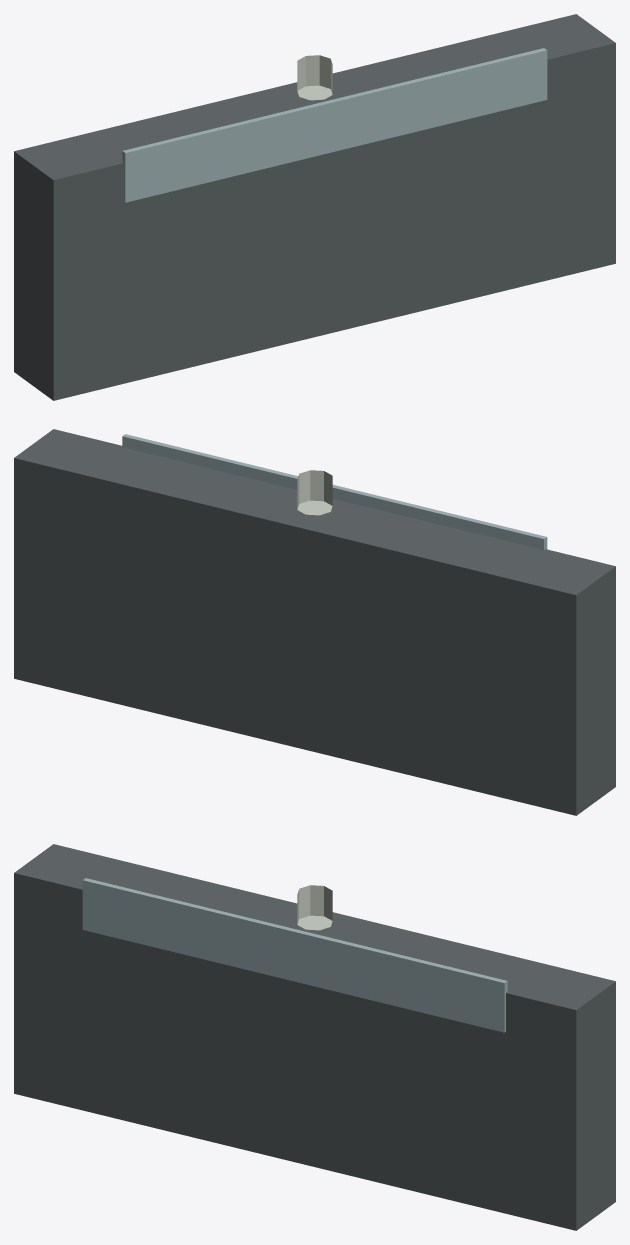
Rendered from rope.glb.
The picture shows the model from 3 angles, top to bottom: view 1: azimuth 30°, elevation 25°; view 2: azimuth 150°, elevation 25°; view 3: azimuth 330°, elevation 25°; orthographic projection.
Bounding box in the file's own units: 1.92 × 0.8326 × 0.2431.
Materials: 1 (1 with a texture image).
